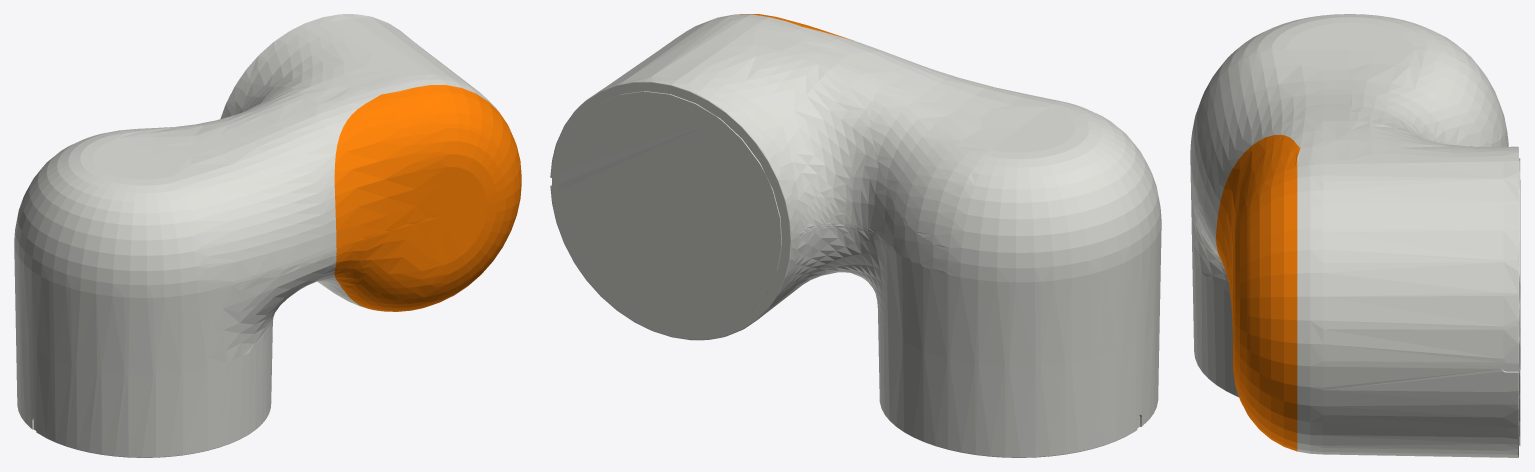
The picture shows the model from 3 angles, left to right: view 1: azimuth 30°, elevation 25°; view 2: azimuth 150°, elevation 25°; view 3: azimuth 270°, elevation 25°; orthographic projection. The views are drawn at different scales.
Visible parts, largest first — view 1: 1; view 2: 1; view 3: 1.
Part boxes in pixels (x1,y1,x2,y2): 1: [14, 14, 521, 457]; 1: [550, 14, 1161, 457]; 1: [1190, 14, 1520, 457].
Bounding box in the file's own units: 0.1327 × 0.0748 × 0.0658.
